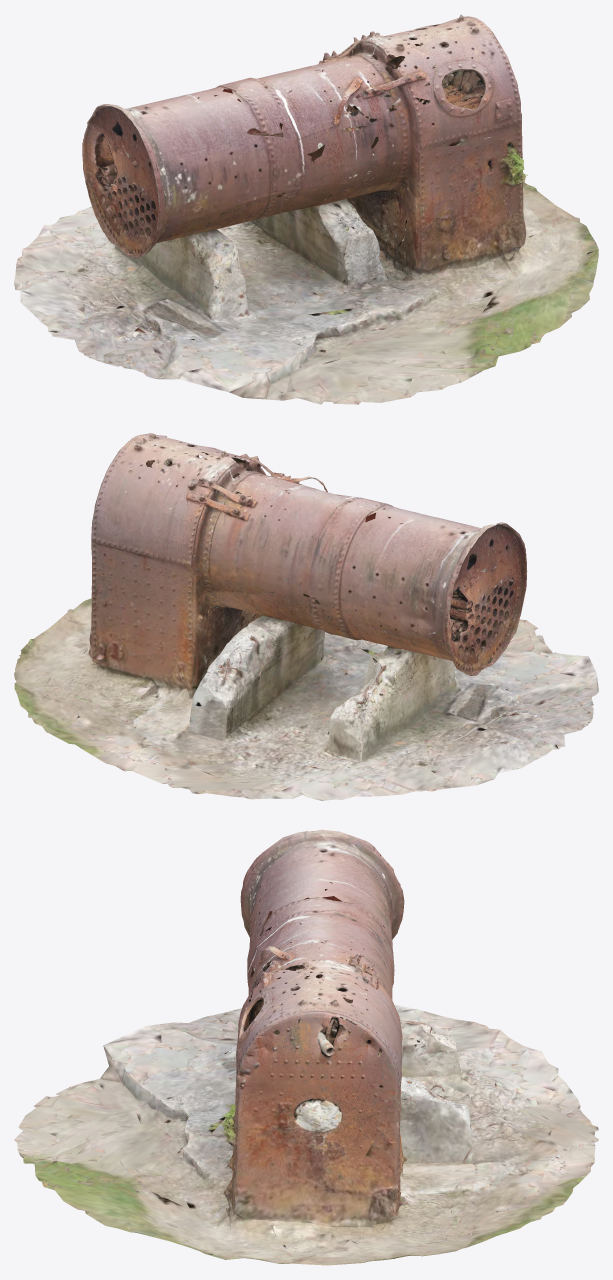
Rendered from old_industrial_boiler.glb.
3 views of the same model, one above another, from view 1: azimuth 30°, elevation 25°; view 2: azimuth 150°, elevation 25°; view 3: azimuth 270°, elevation 25° (orthographic). The views are drawn at different scales.
Visible parts, largest first — view 1: Stereo textured mesh; view 2: Stereo textured mesh; view 3: Stereo textured mesh.
Part boxes in pixels (x1=…): Stereo textured mesh: x1=14, y1=14, x2=598, y2=404; Stereo textured mesh: x1=14, y1=433, x2=598, y2=800; Stereo textured mesh: x1=14, y1=829, x2=598, y2=1265.
Size of the model in its own units: 9.95 by 4.22 by 9.42.
Materials: 1 (1 with a texture image).
